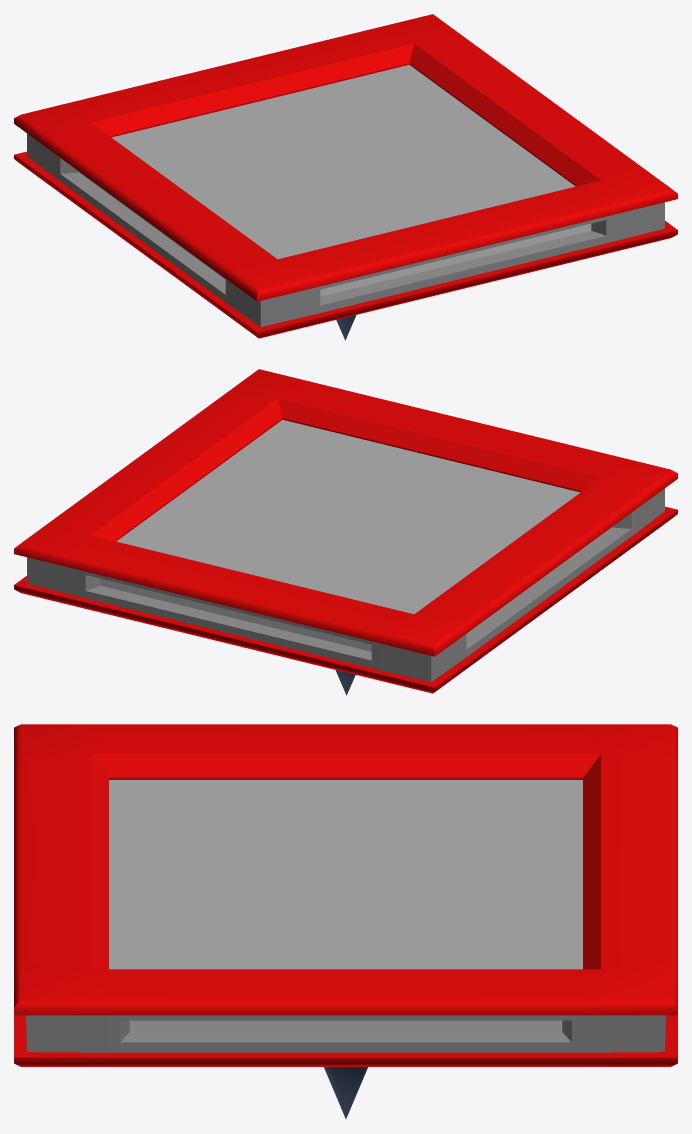
The model's file is Platform_Mover.fbx.
3 views of the same model, one above another, from view 1: azimuth 30°, elevation 25°; view 2: azimuth 150°, elevation 25°; view 3: azimuth 270°, elevation 25° (orthographic). The views are drawn at different scales.
Parts seen in each view (by area): view 1: Platform, TopBottom; view 2: Platform, TopBottom; view 3: Platform, TopBottom.
Boxes of the visible parts, x1=… form: Platform: x1=14, y1=14, x2=677, y2=338; TopBottom: x1=111, y1=65, x2=575, y2=340; Platform: x1=14, y1=369, x2=677, y2=693; TopBottom: x1=116, y1=420, x2=580, y2=695; Platform: x1=14, y1=724, x2=677, y2=1066; TopBottom: x1=109, y1=780, x2=582, y2=1118.
Size of the model in its own units: 398 by 171 by 398.
